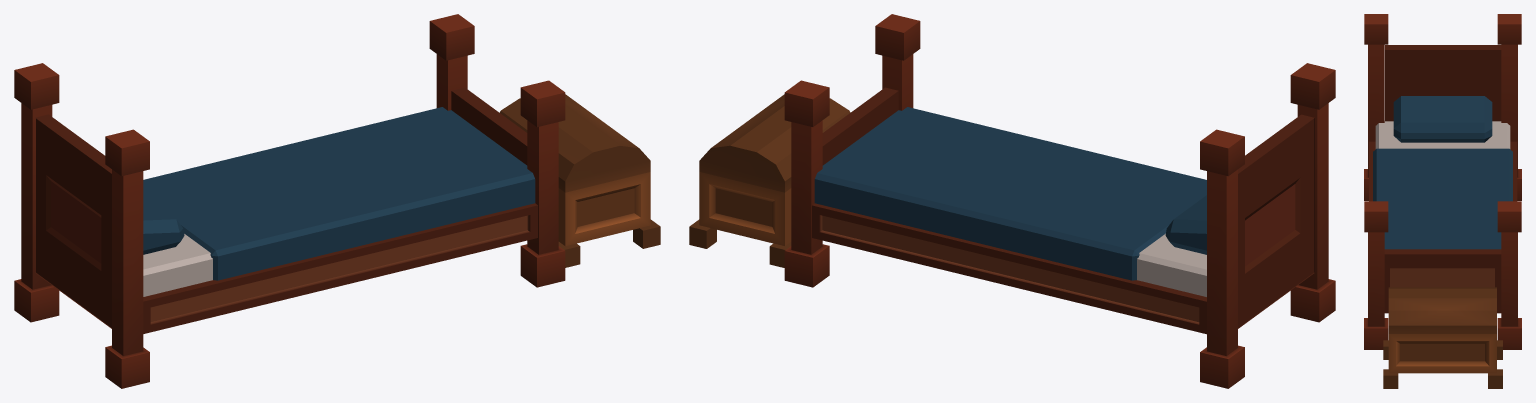
The model's file is bed3blue.glb.
The picture shows the model from 3 angles, left to right: view 1: azimuth 30°, elevation 25°; view 2: azimuth 150°, elevation 25°; view 3: azimuth 270°, elevation 25°; orthographic projection. The views are drawn at different scales.
Parts seen in each view (by area): view 1: Cube.011; view 2: Cube.011; view 3: Cube.011.
Part boxes in pixels (x1,y1,x2,y2): Cube.011: (14,14,660,388); Cube.011: (689,14,1335,388); Cube.011: (1364,14,1521,388).
Size of the model in its own units: 2.97 by 1.24 by 0.9996.
